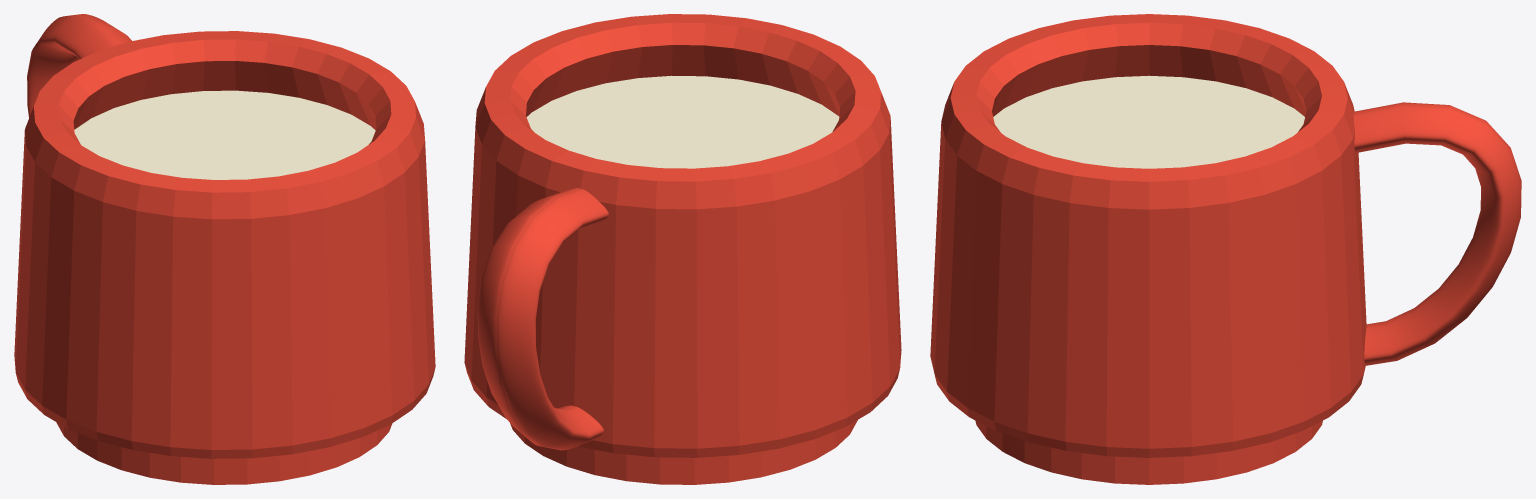
The model's file is mug_01.fbx.
3 views of the same model, side by side, from view 1: azimuth 30°, elevation 25°; view 2: azimuth 150°, elevation 25°; view 3: azimuth 270°, elevation 25° (orthographic). The views are drawn at different scales.
Visible parts, largest first — view 1: Cylinder; view 2: Cylinder; view 3: Cylinder.
Boxes of the visible parts, <box> form: Cylinder: <box>14,14,435,484</box>; Cylinder: <box>464,14,901,484</box>; Cylinder: <box>930,14,1521,484</box>.
Size of the model in its own units: 95.39 by 75.69 by 129.
